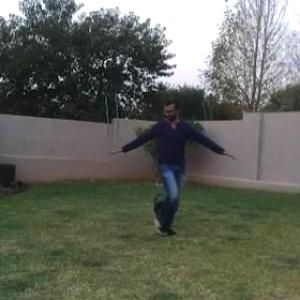land: (113, 100, 220, 226)
